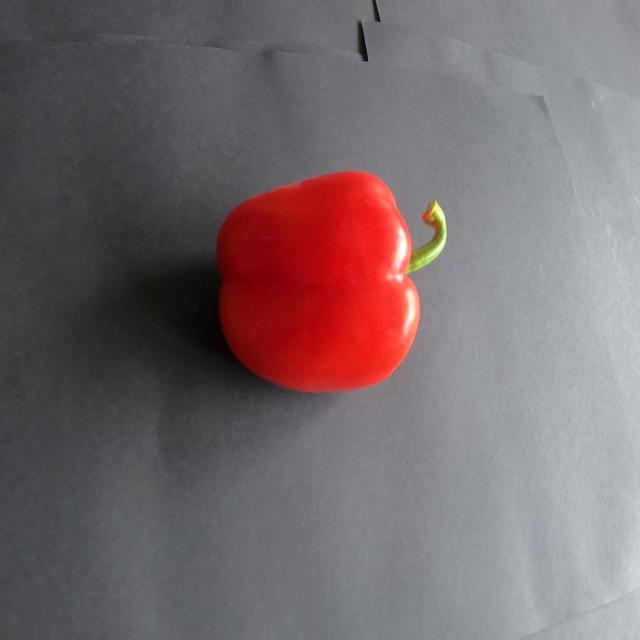Redpepper: (196, 116, 468, 432)
